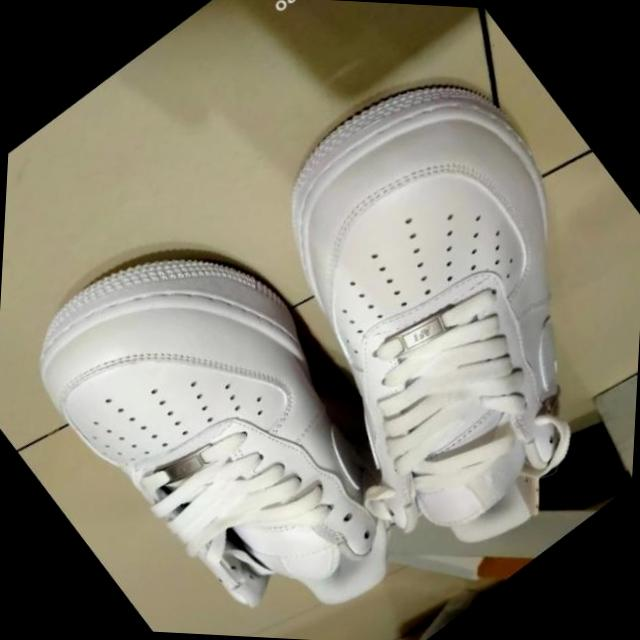nike_original_airforce: (167, 25, 640, 595), (0, 180, 476, 640)
